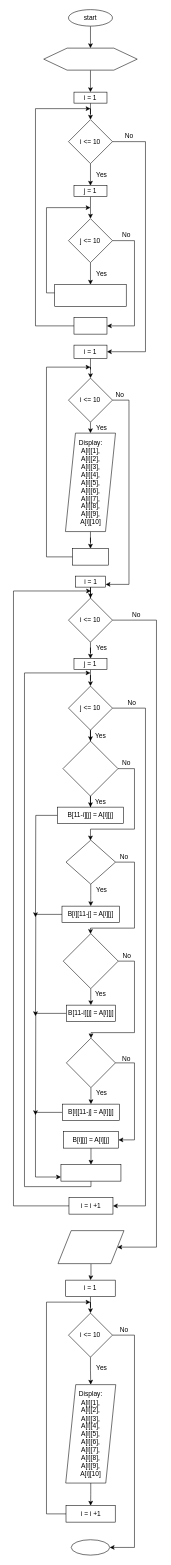
Image size: 171x1565. Some labels were removed from this diagram. The shapes that lost their labels are listed below. From the top down, each one's box as (x1, y1, x2, y2) in pixels, then its label:
(43, 48, 137, 70): int A[10][10], B[10][10], i, j
(54, 284, 126, 307): A[i][j] = rand(-10 - 10) j = j+1
(73, 317, 107, 334): i = i+1
(72, 548, 108, 565): i = i + 1
(62, 741, 118, 796): i<=4 j<=(10-i) j>=(i+1)
(65, 840, 116, 884): j <= 4 i <= (10-j) i >= (j+1)
(63, 933, 118, 989): i>=7 j<=(i-1) j>=(12-i)
(66, 1038, 115, 1088): j>=7 i<=(j-1) i>=(12-j)
(60, 1164, 121, 1181): j = j + 1
(57, 1230, 124, 1264): Display: enter enter
(71, 1539, 110, 1555): end
